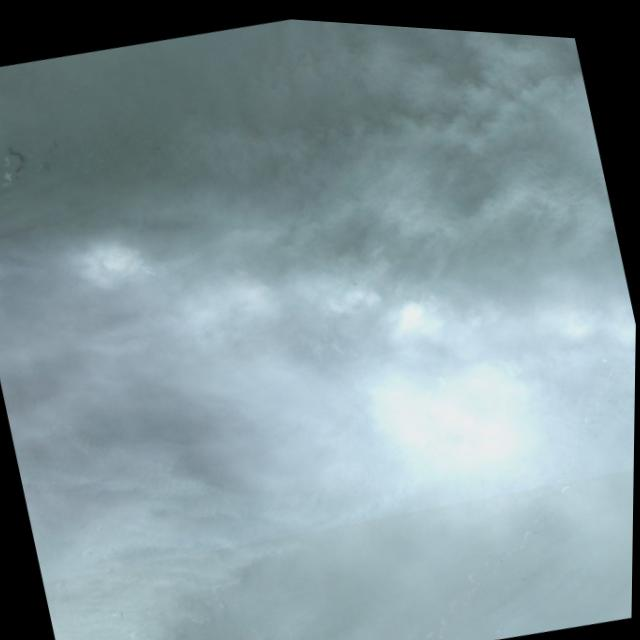fire: (65, 122, 639, 490)
